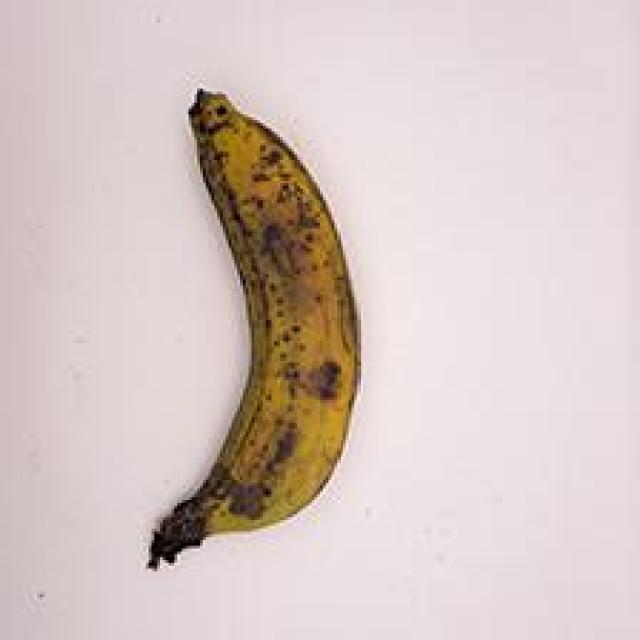Overripe: (111, 63, 390, 593)
